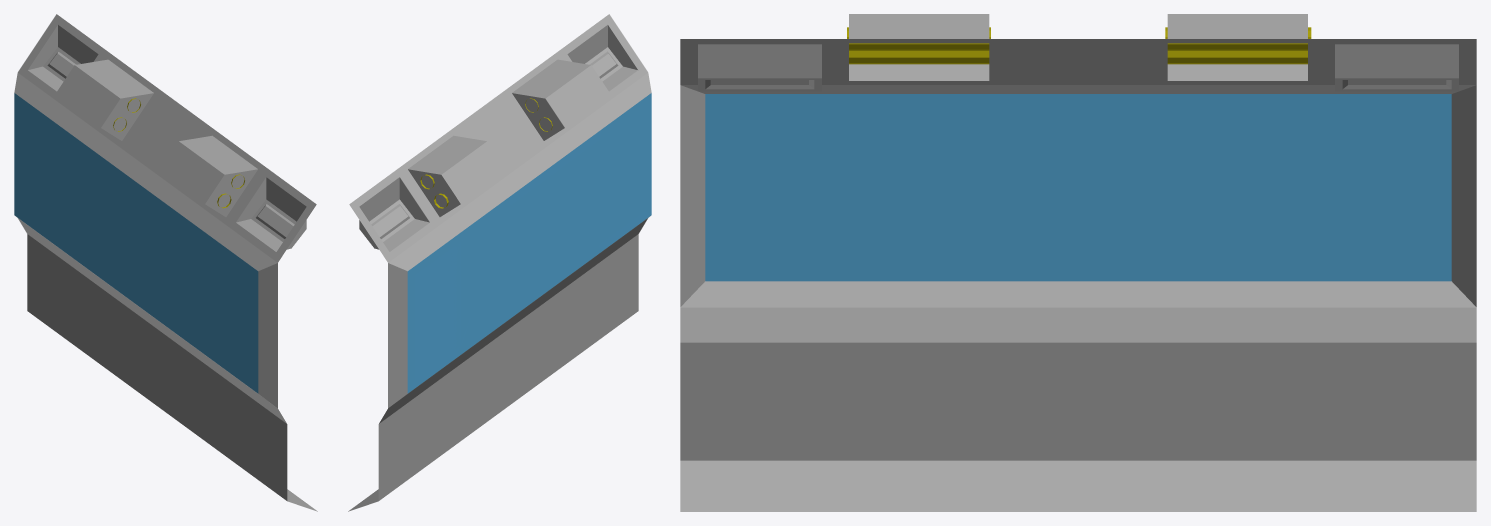
File: wall_panel_window.fbx
The picture shows the model from 3 angles, left to right: view 1: azimuth 30°, elevation 25°; view 2: azimuth 150°, elevation 25°; view 3: azimuth 270°, elevation 25°; orthographic projection. The views are drawn at different scales.
Parts seen in each view (by area): view 1: wall_Panel_Window; view 2: wall_Panel_Window; view 3: wall_Panel_Window.
Boxes of the visible parts, x1,y1,x2,y2 form: wall_Panel_Window: (14,14,317,511); wall_Panel_Window: (348,14,651,511); wall_Panel_Window: (680,14,1476,511).
Bounding box in the file's own units: 477 × 2400 × 3675.
